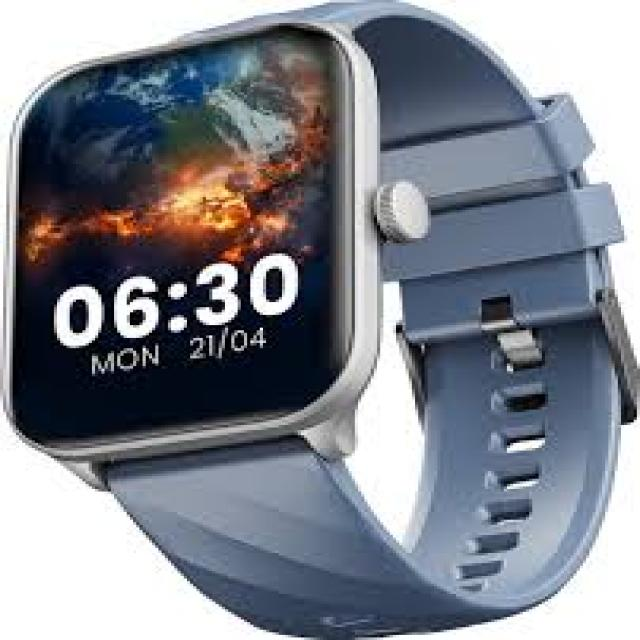objects: (0, 3, 634, 637)
